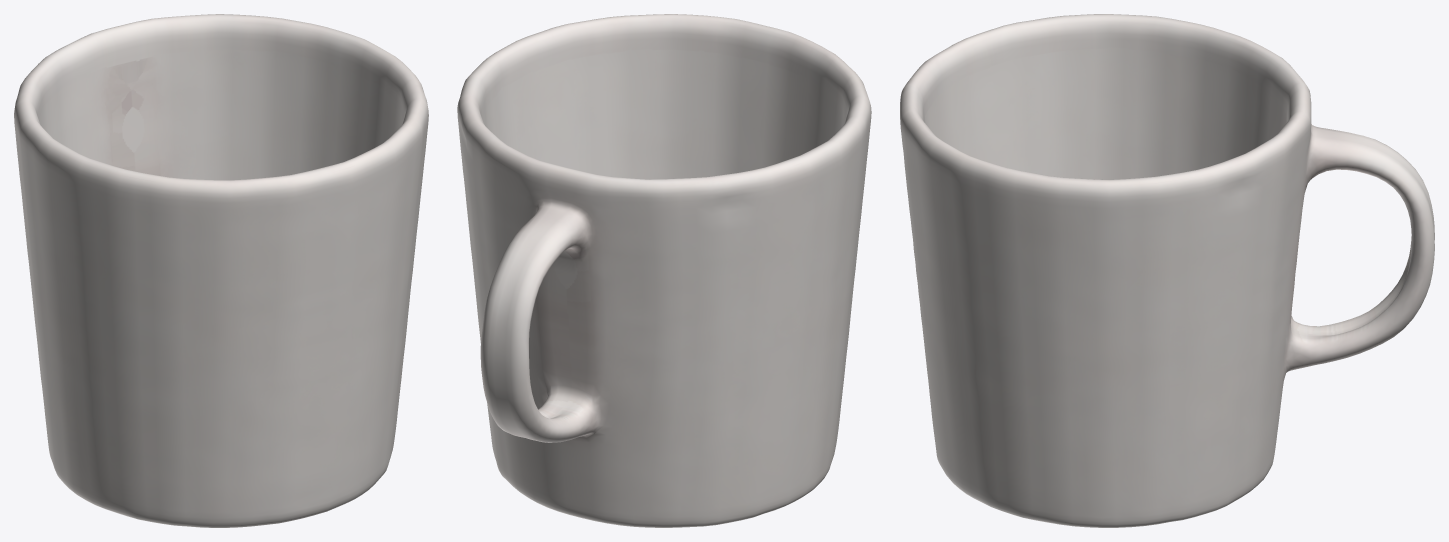
3 views of the same model, side by side, from view 1: azimuth 30°, elevation 25°; view 2: azimuth 150°, elevation 25°; view 3: azimuth 270°, elevation 25° (orthographic).
Parts seen in each view (by area): view 1: model; view 2: model; view 3: model.
Part boxes in pixels (x1,y1,x2,y2): model: (14,14,428,527); model: (457,14,871,527); model: (900,14,1434,527).
Bounding box in the file's own units: 1.43 × 1.41 × 1.85.
Materials: 1 (1 with a texture image).
